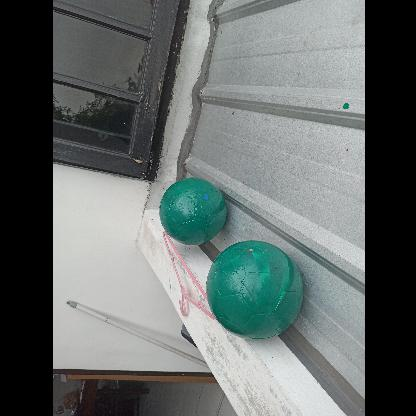green_ball: (204, 242, 301, 338), (157, 175, 225, 243)
